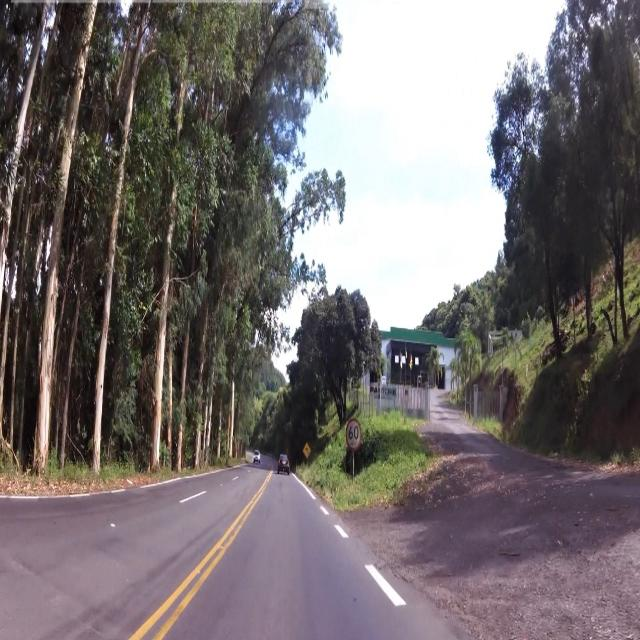R-19: (347, 419, 362, 451)
